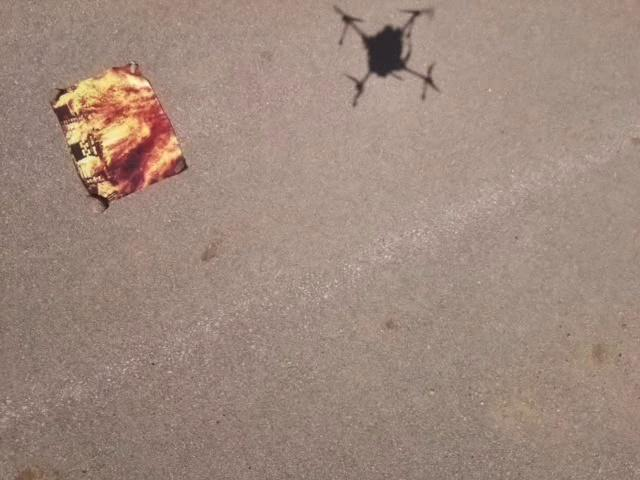fire-poster: (48, 59, 189, 211)
